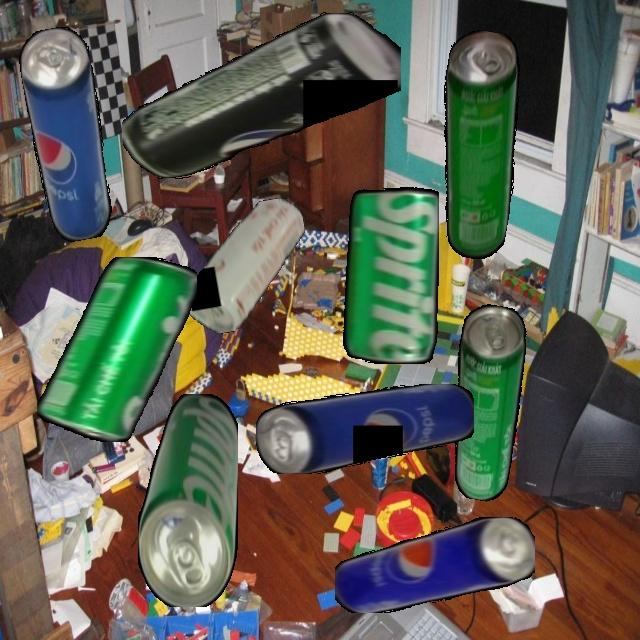debris: (122, 11, 401, 179), (36, 257, 197, 442), (416, 26, 539, 263), (15, 23, 121, 245), (312, 186, 439, 364), (137, 393, 238, 607), (171, 195, 320, 338), (434, 301, 537, 504), (256, 383, 474, 474), (334, 517, 535, 613)
